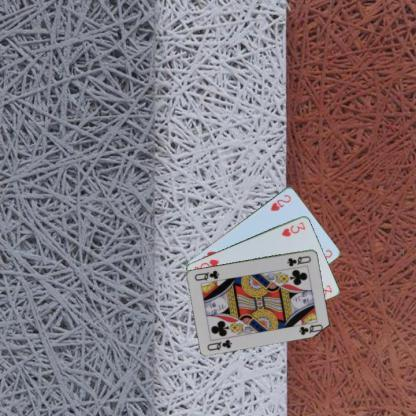2h: (268, 192, 292, 212)
3h: (280, 219, 307, 237)
Qc: (204, 337, 234, 352), (284, 254, 312, 268)
